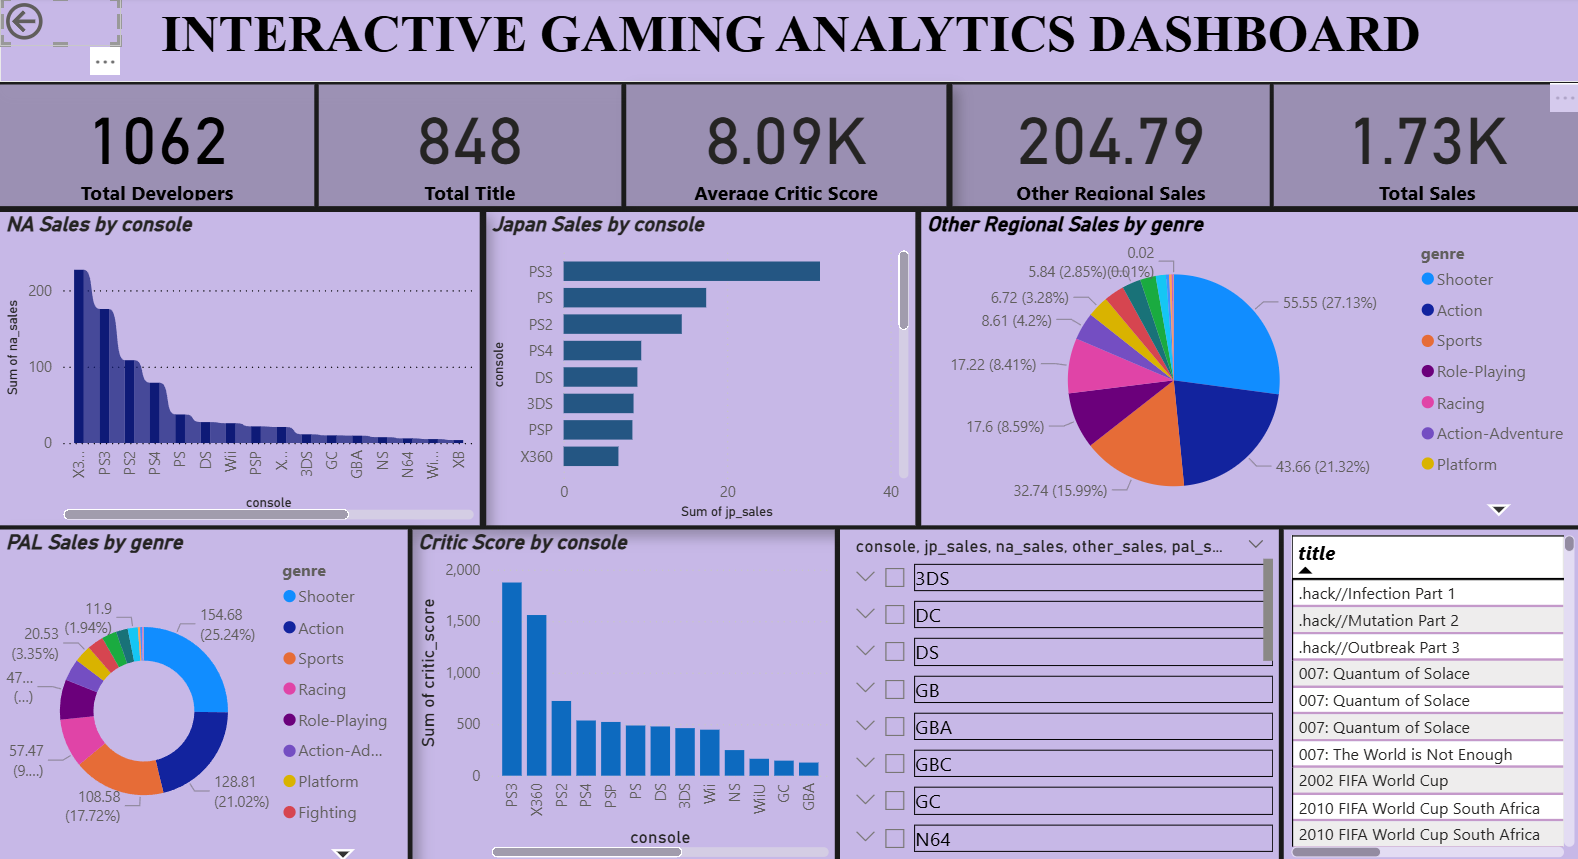

The dashboard page shown, as its layout file describes it:
{"tool":"powerbi","page":{"name":"Page 1","canvas":[1300,712],"ordinal":0},"visuals":[{"type":"clusteredColumnChart","title":"Critic Score by console","fields":{"Category":["Sheet1.console"],"Y":["Sum(Sheet1.critic_score)"]},"box":[339.1,437.6,347.4,274.4],"z":0},{"type":"textbox","box":[0,0,1300.2,69.7],"z":1000},{"type":"card","fields":{"Values":["CountNonNull(Sheet1.developer)"]},"box":[0,72,258.6,100.4],"z":2000},{"type":"card","fields":{"Values":["Count(Sheet1.title)"]},"box":[262.2,72,249.2,100.4],"z":3000},{"type":"card","fields":{"Values":["Sum(Sheet1.other_sales)"]},"box":[783,72,261,100.4],"z":4000},{"type":"card","fields":{"Values":["Sum(Sheet1.critic_score)"]},"box":[514.9,72,263.4,100.4],"z":5000},{"type":"clusteredBarChart","title":"Japan Sales by console","fields":{"Category":["Sheet1.console"],"Y":["Sum(Sheet1.jp_sales)"]},"box":[399.8,176.8,352.5,258],"z":6000},{"type":"ribbonChart","title":"NA Sales by console","fields":{"Category":["Sheet1.console"],"Y":["Sum(Sheet1.na_sales)"]},"box":[0,176.8,394.6,258],"z":7000},{"type":"actionButton","box":[0,0,100,40],"z":8000},{"type":"donutChart","title":"PAL Sales by genre","fields":{"Category":["Sheet1.genre"],"Y":["Sum(Sheet1.pal_sales)"]},"box":[0,438.3,335,279.8],"z":9000},{"type":"pieChart","title":"Other Regional Sales by genre","fields":{"Category":["Sheet1.genre"],"Y":["Sum(Sheet1.other_sales)"]},"box":[757.4,176.8,542.6,258],"z":10000},{"type":"tableEx","fields":{"Values":["Sheet1.title","Sheet1.console","Sheet1.developer","Sheet1.publisher"]},"box":[1055.5,437.8,244.6,274.4],"z":11000},{"type":"card","fields":{"Values":["Sum(Sheet1.total_sales)"]},"box":[1047.3,72,252.7,100.4],"z":12000},{"type":"slicer","fields":{"Values":["Sheet1.console","Sheet1.jp_sales","Sheet1.na_sales","Sheet1.other_sales","Sheet1.pal_sales"]},"box":[690.6,437.6,360.7,274.4],"z":13000}]}

Visuals, with their boxes in screenshot pixels (x1, y1, x2, y2):
"Critic Score by console" clusteredColumnChart: locate(402, 527, 830, 858)
textbox: locate(0, 0, 1577, 74)
card - CountNonNull(Sheet1.developer): locate(0, 76, 302, 200)
card - Count(Sheet1.title): locate(307, 76, 614, 200)
card - Sum(Sheet1.other_sales): locate(949, 76, 1271, 200)
card - Sum(Sheet1.critic_score): locate(619, 76, 943, 200)
"Japan Sales by console" clusteredBarChart: locate(477, 206, 911, 524)
"NA Sales by console" ribbonChart: locate(0, 206, 470, 524)
actionButton: locate(0, 0, 107, 37)
"PAL Sales by genre" donutChart: locate(0, 528, 397, 858)
"Other Regional Sales by genre" pieChart: locate(918, 206, 1577, 524)
tableEx - Sheet1.title x Sheet1.console: locate(1285, 528, 1577, 858)
card - Sum(Sheet1.total_sales): locate(1275, 76, 1577, 200)
slicer - Sheet1.console x Sheet1.jp_sales: locate(835, 527, 1280, 858)
